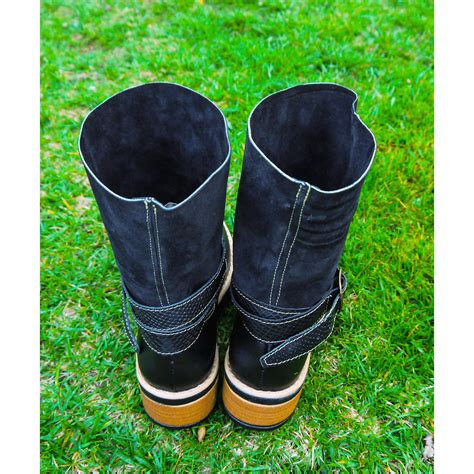cuero: (120, 299, 337, 396)
